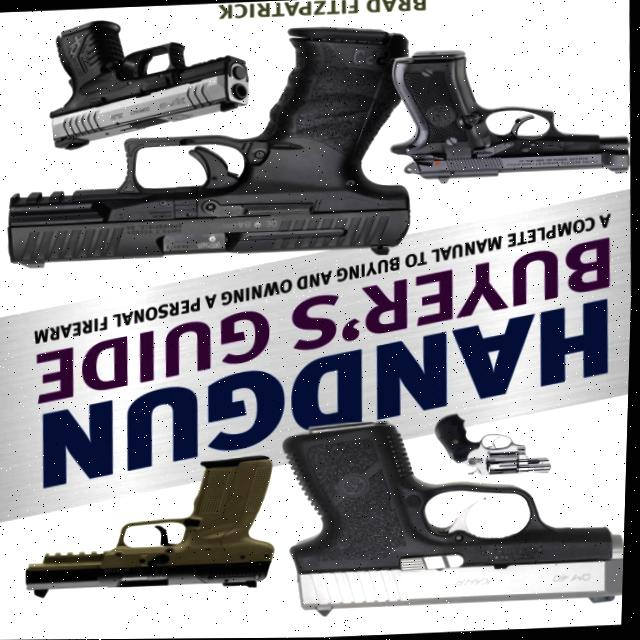pistol: (2, 24, 413, 269), (278, 411, 630, 615), (20, 457, 279, 596), (383, 48, 634, 183), (43, 14, 250, 150), (436, 410, 558, 480)
